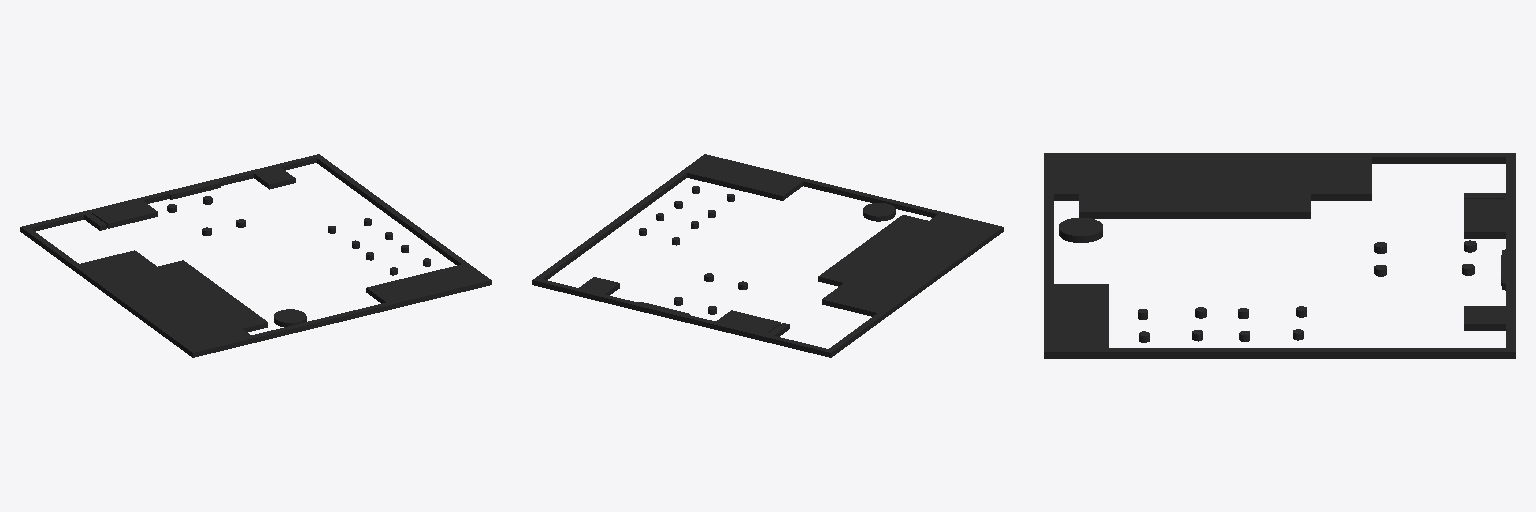
The robot description file, URDF, robot "kitchen":
<?xml version="1.0"?> 
<robot name="kitchen">

    <material name="black">
        <color rgba="0.2 0.2 0.2 0.95"/>
    </material>

    <link name="base_link">
        <visual>
            <geometry>
                <mesh filename="meshes/kitchen.obj" scale="1 1 0.1"/>/>
            </geometry>
          <material name="black"/>
        </visual>

        <collision concave="yes" name="collision_0">
            <geometry>
                <mesh filename="meshes/kitchen.obj" scale="1 1 0.1"/>/>
            </geometry>
        </collision>

        <inertial> 
            <mass value="0"/>
            <inertia ixx="0" ixy="0" ixz="0" iyy="0" iyz="0" izz="0"/>
        </inertial> 
    </link>
</robot>

--- What the picture shows (computed from the rendered views, not written in the file) ---
The picture shows the robot from 3 angles, left to right: view 1: azimuth 30°, elevation 25°; view 2: azimuth 150°, elevation 25°; view 3: azimuth 270°, elevation 25°; orthographic projection.
Robot: kitchen — 1 links, 0 joints (none); root link base_link; default pose: every joint at zero.
Links seen in each view (by area): view 1: base_link; view 2: base_link; view 3: base_link.
Link boxes in pixels (x1,y1,x2,y2): base_link: (20, 154, 491, 357); base_link: (532, 154, 1003, 357); base_link: (1044, 153, 1515, 358).
Bounding box of the posed robot: 5 × 5 × 0.08 m (x, y, z).
Meshes: 1 distinct files referenced, 1 mesh visuals loaded (1 OBJ).